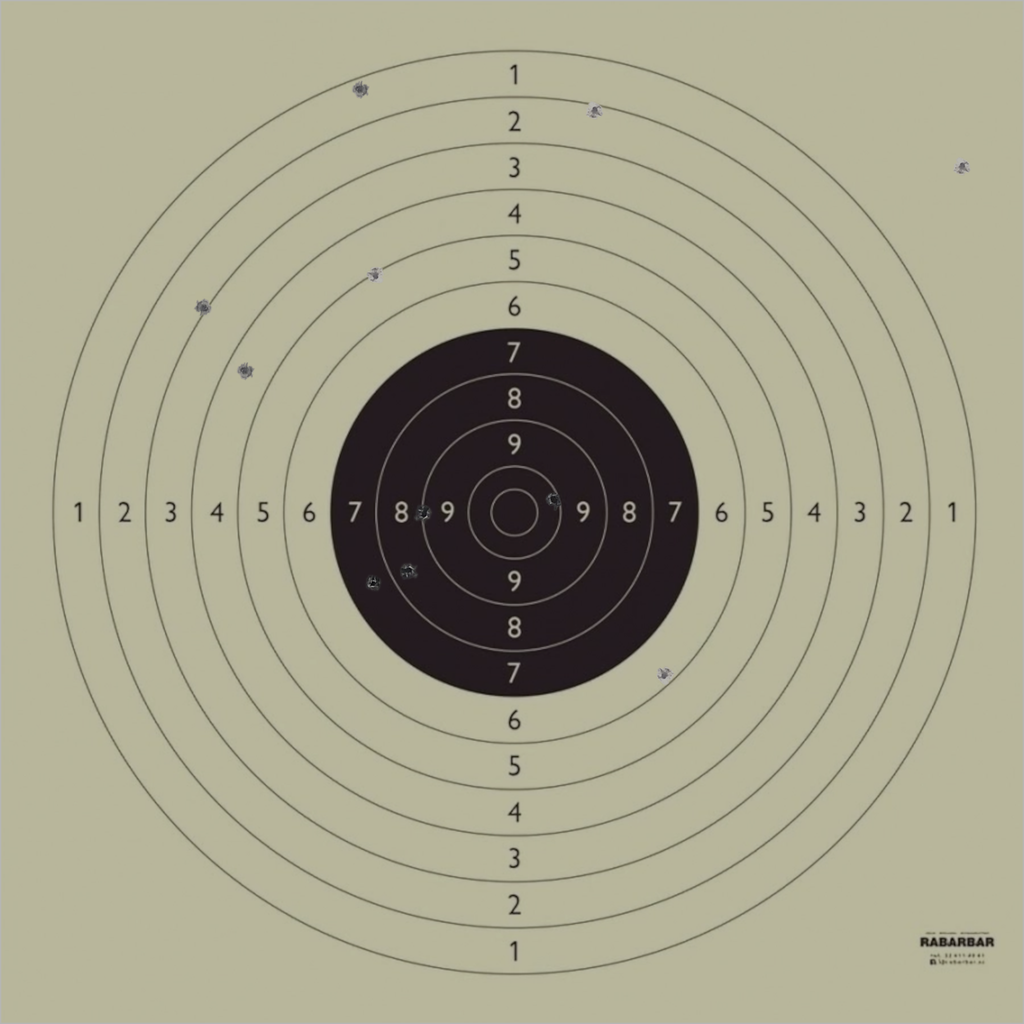0 punktow: (953, 157, 972, 176)
1 punkt: (351, 80, 369, 99)
10 punktow: (545, 491, 563, 509)
2 punkty: (586, 101, 604, 120)
3 punkty: (195, 299, 213, 317)
4 punkty: (236, 361, 254, 380)
5 punktow: (366, 266, 385, 285)
6 punktow: (655, 666, 674, 684)
7 punktow: (364, 575, 382, 593)
8 punktow: (400, 561, 418, 580)
9 punktow: (415, 505, 433, 523)
